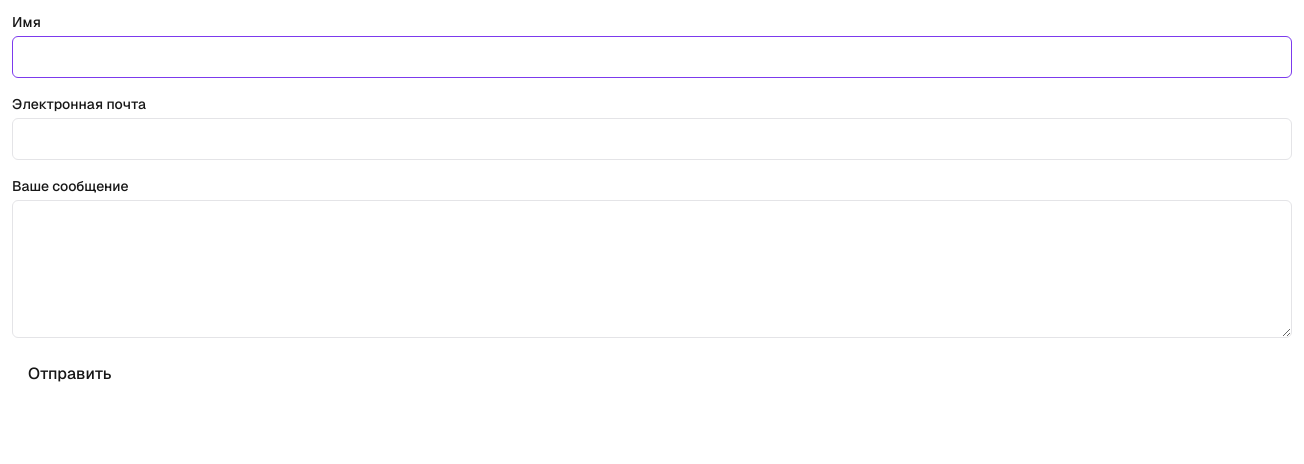
Test: ContactForm › while pending, shows the sending label, disables everything, sends once, and hides the last result
Type "Анна" into the field labelled "Имя".
click(652, 57); type("Анна")  # box [12,36,1292,78]
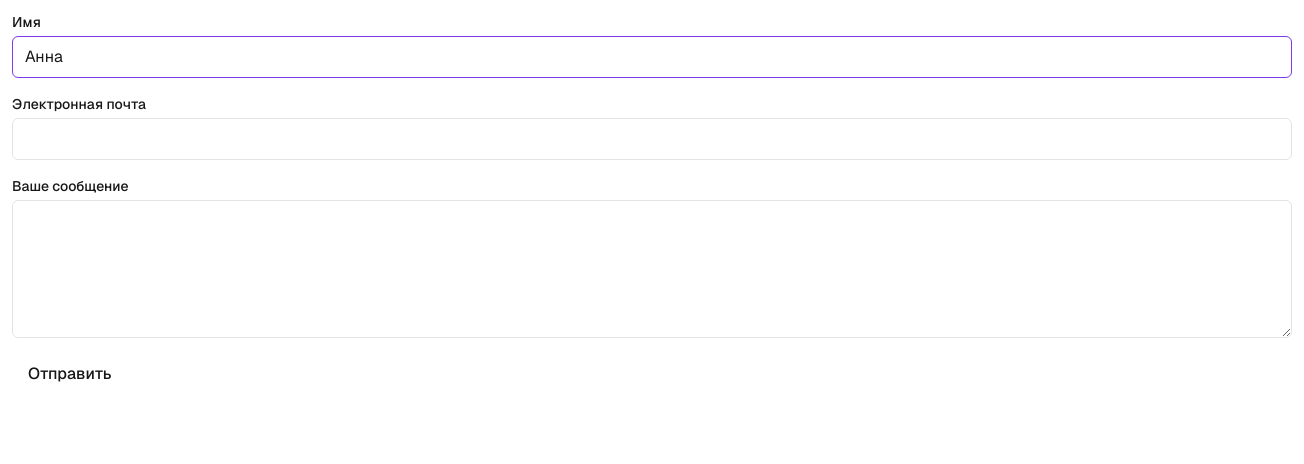
Type "anna@example.com" into the field labelled "Электронная почта".
click(652, 139); type("anna@example.com")  # box [12,118,1292,160]
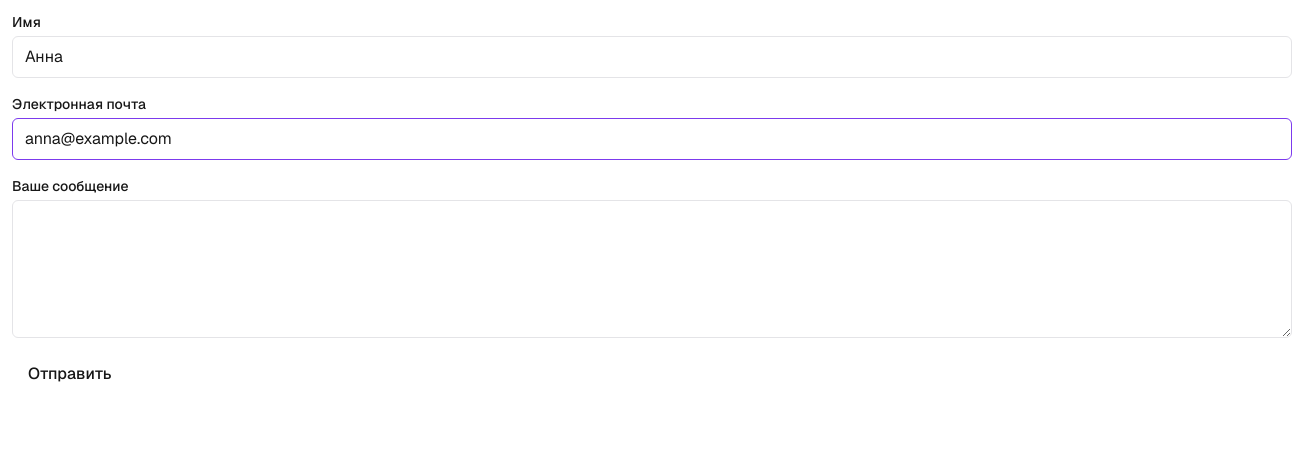
Type "Здравствуйте!" into the text box labelled "Ваше сообщение".
click(652, 269); type("Здравствуйте!")  # box [12,200,1292,338]
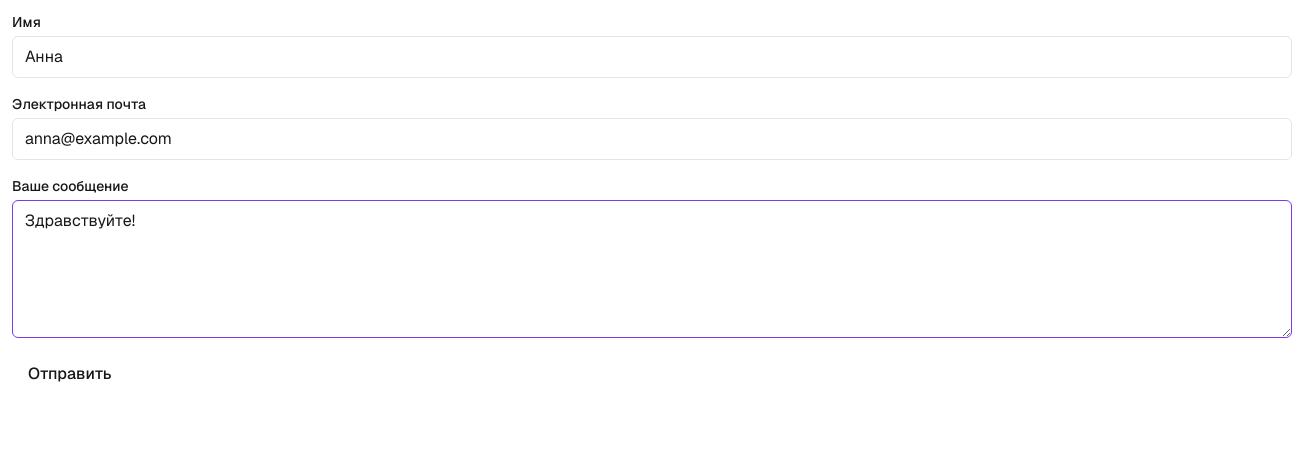
Click the button "Отправить".
click(70, 374)  # box [12,354,128,394]
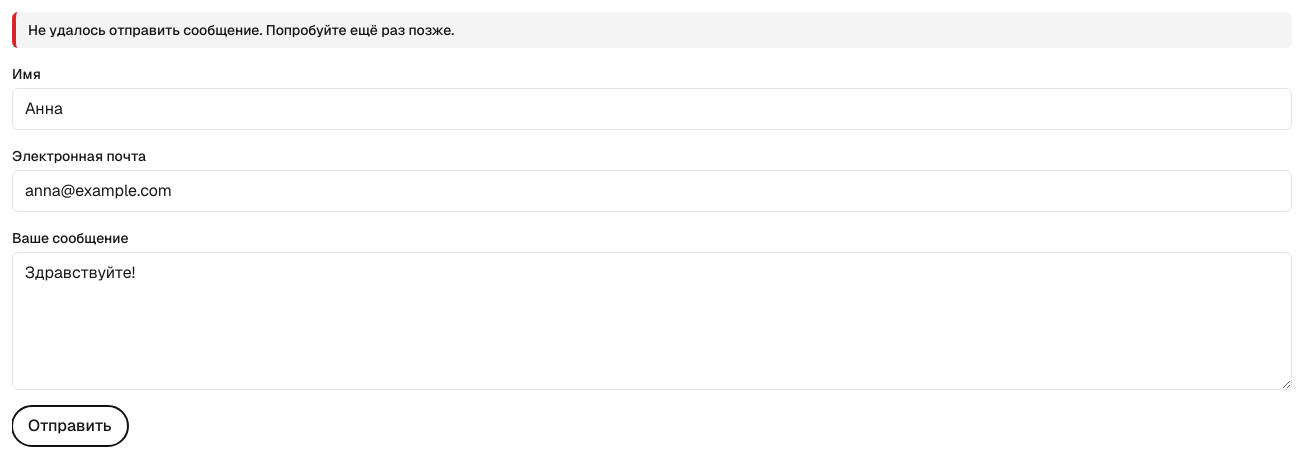
Result: the message "Не удалось отправить сообщение. Попробуйте ещё раз позже." is shown at [12,12,1292,48]
Click the button "Отправить".
click(70, 426)  # box [12,406,128,446]
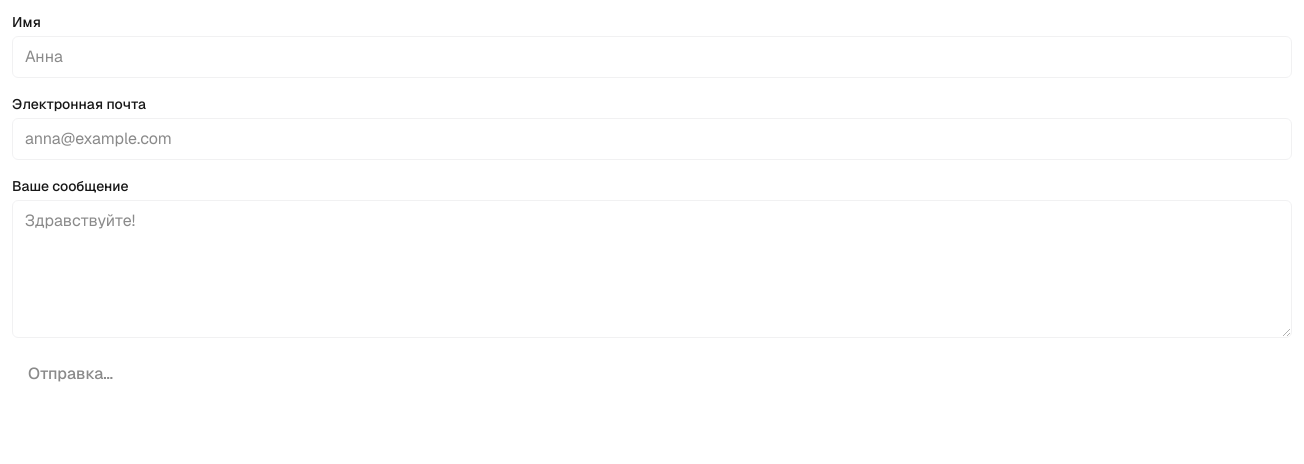
Expected: the field labelled "Имя" is disabled, [12,36,1292,78]
Result: the message "Не удалось отправить сообщение. Попробуйте ещё раз позже." is gone
Click the button "Отправка…".
click(70, 374)  # box [12,354,129,394]
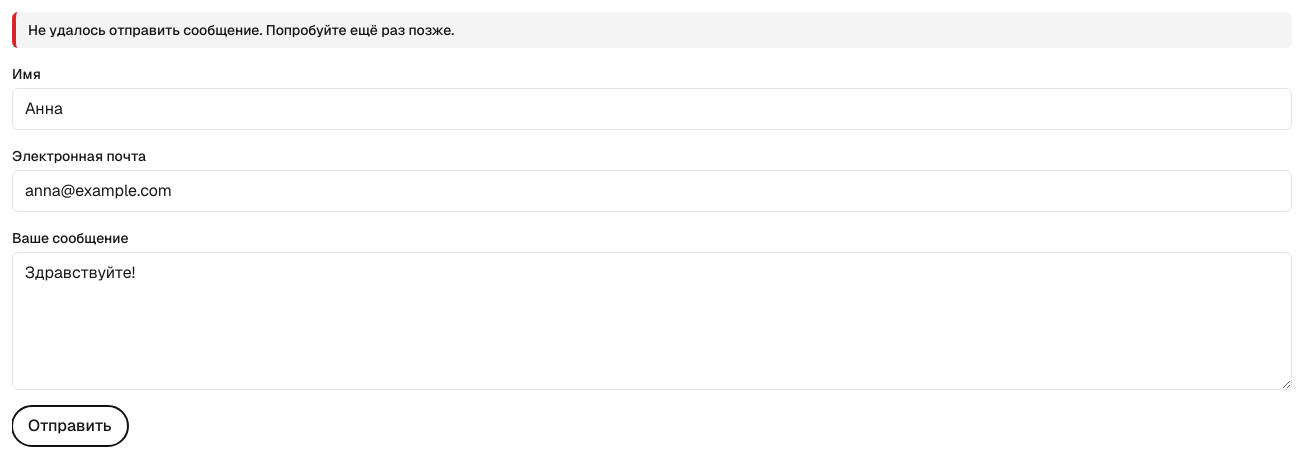
Result: the message "Не удалось отправить сообщение. Попробуйте ещё раз позже." is shown at [12,12,1292,48]
